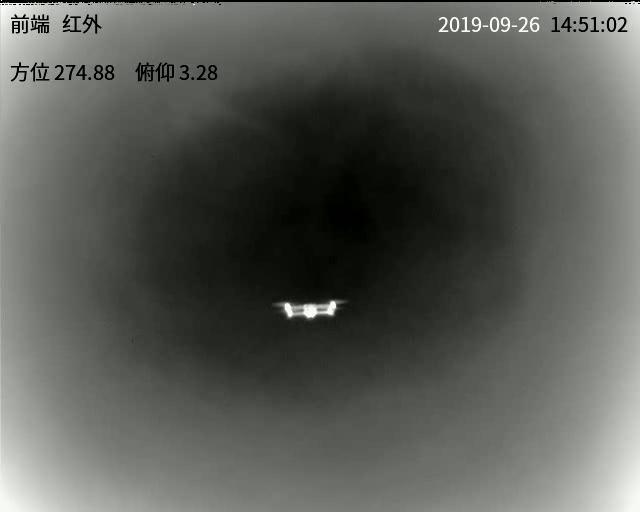DRONE: (277, 299, 343, 320)
